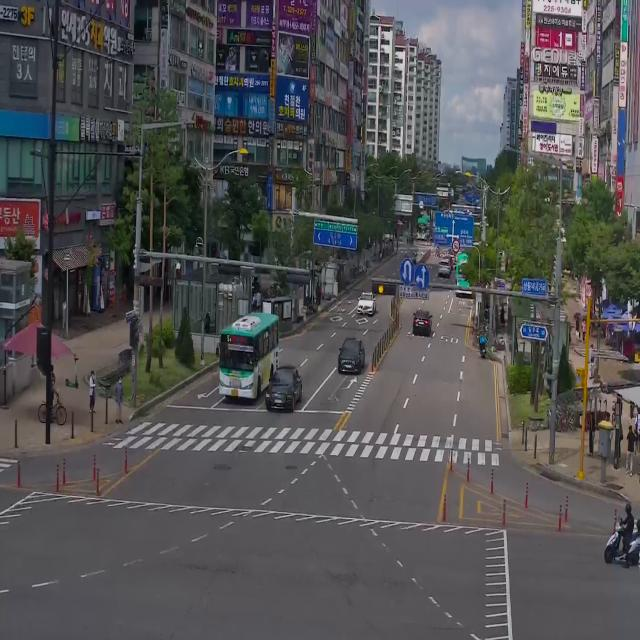Bus: (215, 295, 279, 415), (453, 249, 477, 302)
Car: (265, 365, 302, 412), (337, 337, 365, 374), (412, 308, 432, 337), (435, 253, 453, 281), (357, 290, 376, 316)
Motorcycle: (604, 502, 640, 568)
